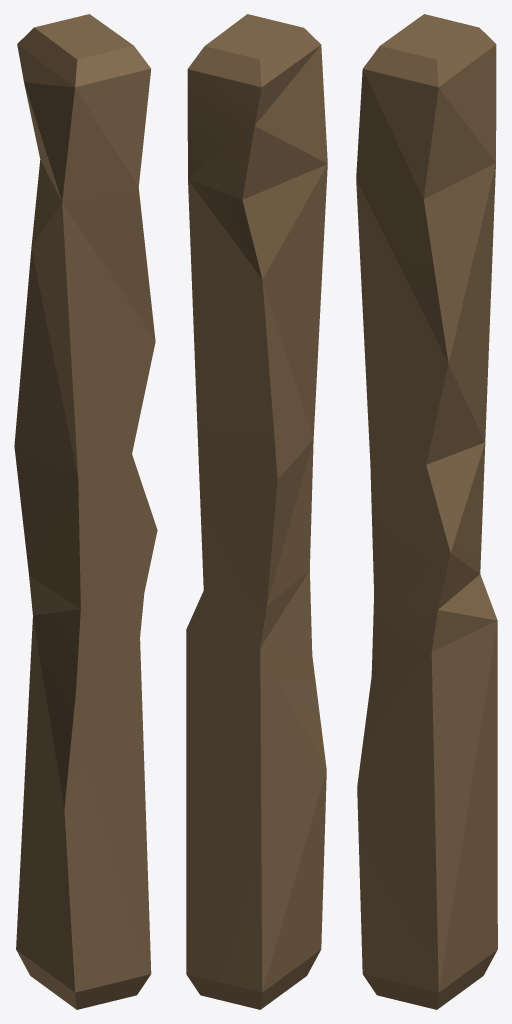
File: Espiga_03.glb
3 renders of one model, left to right at view 1: azimuth 30°, elevation 25°; view 2: azimuth 150°, elevation 25°; view 3: azimuth 330°, elevation 25°, orthographic.
Parts seen in each view (by area): view 1: SM_Prop_Pole_02; view 2: SM_Prop_Pole_02; view 3: SM_Prop_Pole_02.
Part boxes in pixels (left/top/right/bottom): SM_Prop_Pole_02: left=14, top=14, right=157, bottom=1009; SM_Prop_Pole_02: left=186, top=14, right=327, bottom=1009; SM_Prop_Pole_02: left=356, top=14, right=497, bottom=1009.
Size of the model in its own units: 0.3121 by 2.98 by 0.3438.
1 material, 1 textured.
